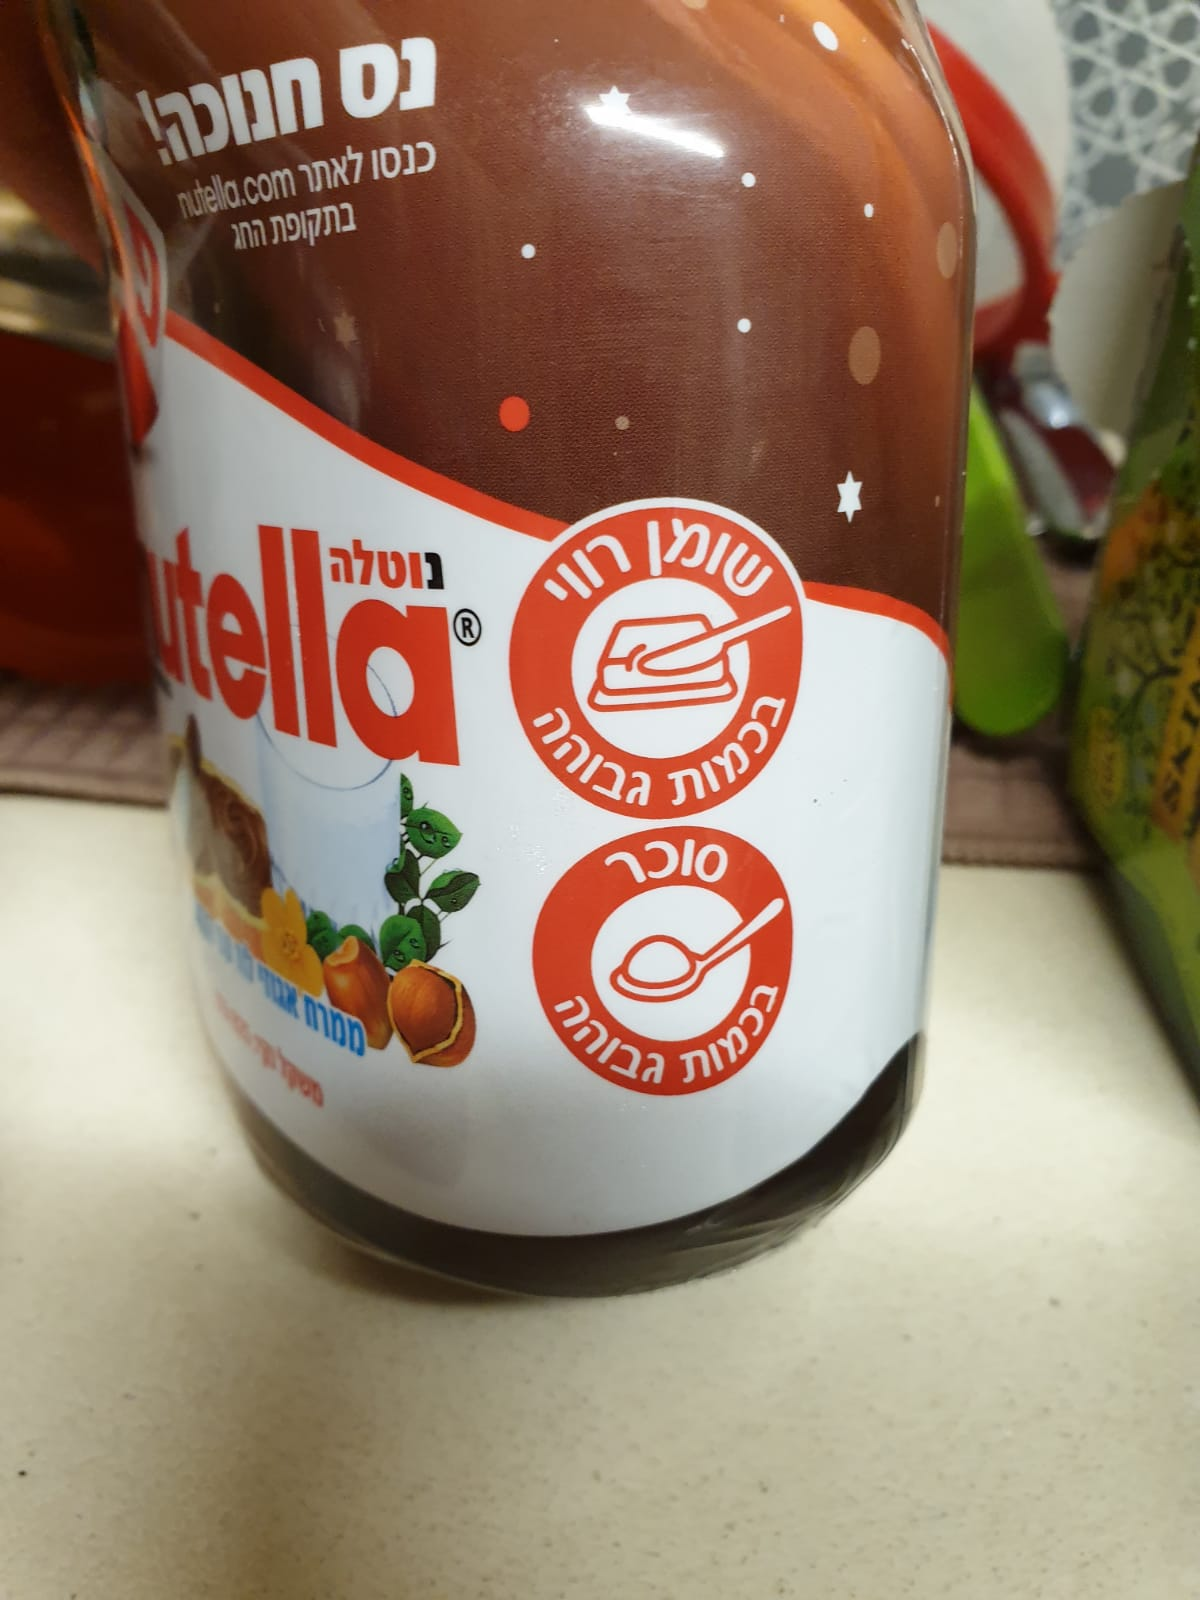fat: (505, 493, 811, 823)
sugar: (532, 826, 797, 1101)
